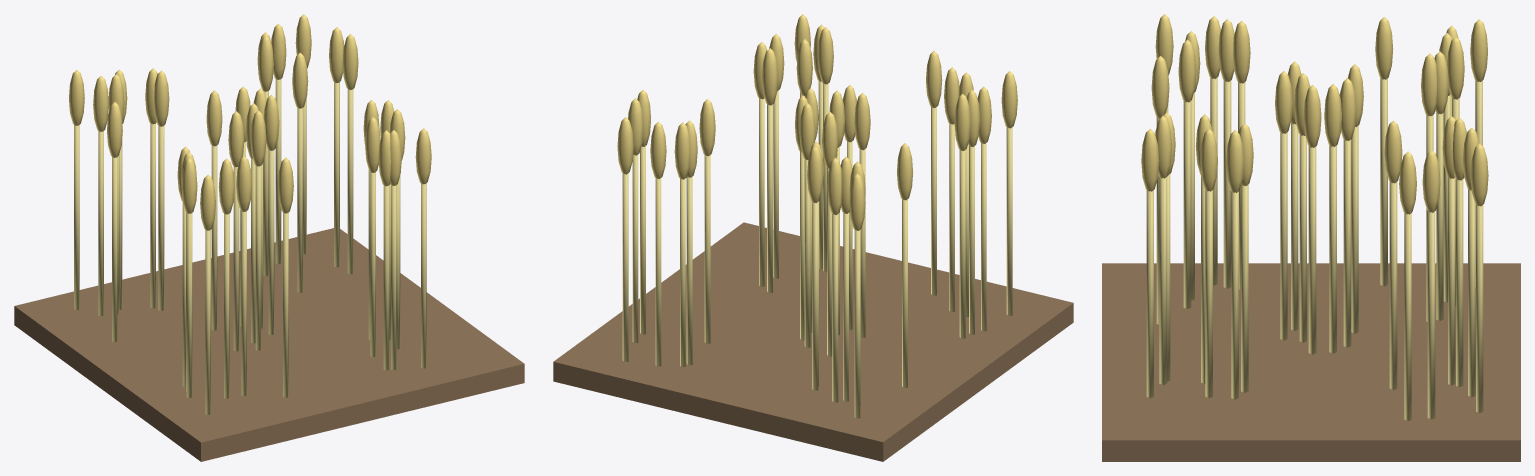
File: world_crop_wheat.glb
3 renders of one model, left to right at view 1: azimuth 30°, elevation 25°; view 2: azimuth 150°, elevation 25°; view 3: azimuth 270°, elevation 25°, orthographic. The views are drawn at different scales.
Parts seen in each view (by area): view 1: world_crop_wheat; view 2: world_crop_wheat; view 3: world_crop_wheat.
Boxes of the visible parts, x1=… form: world_crop_wheat: x1=14, y1=14, x2=524, y2=461; world_crop_wheat: x1=553, y1=14, x2=1073, y2=461; world_crop_wheat: x1=1102, y1=14, x2=1520, y2=461.
Size of the model in its own units: 1.4 by 1.07 by 1.4.
